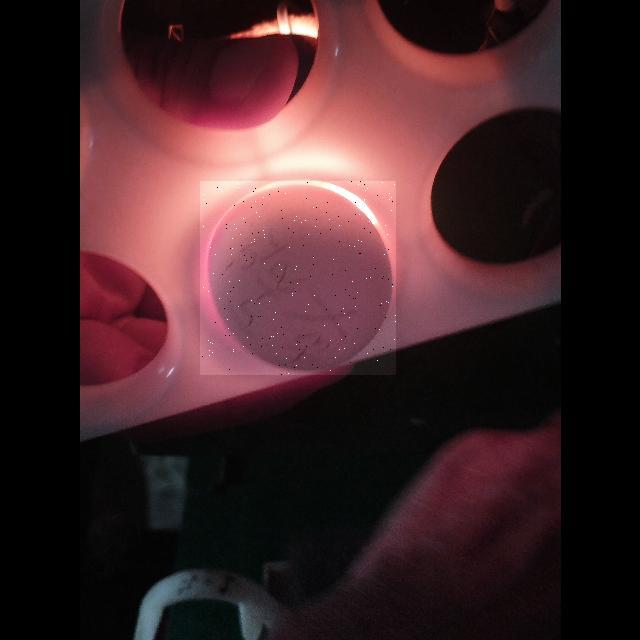Fertile: (200, 181, 396, 375)
